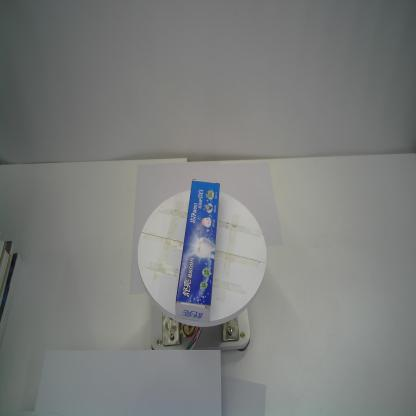Personal Hygiene: (173, 178, 221, 327)
